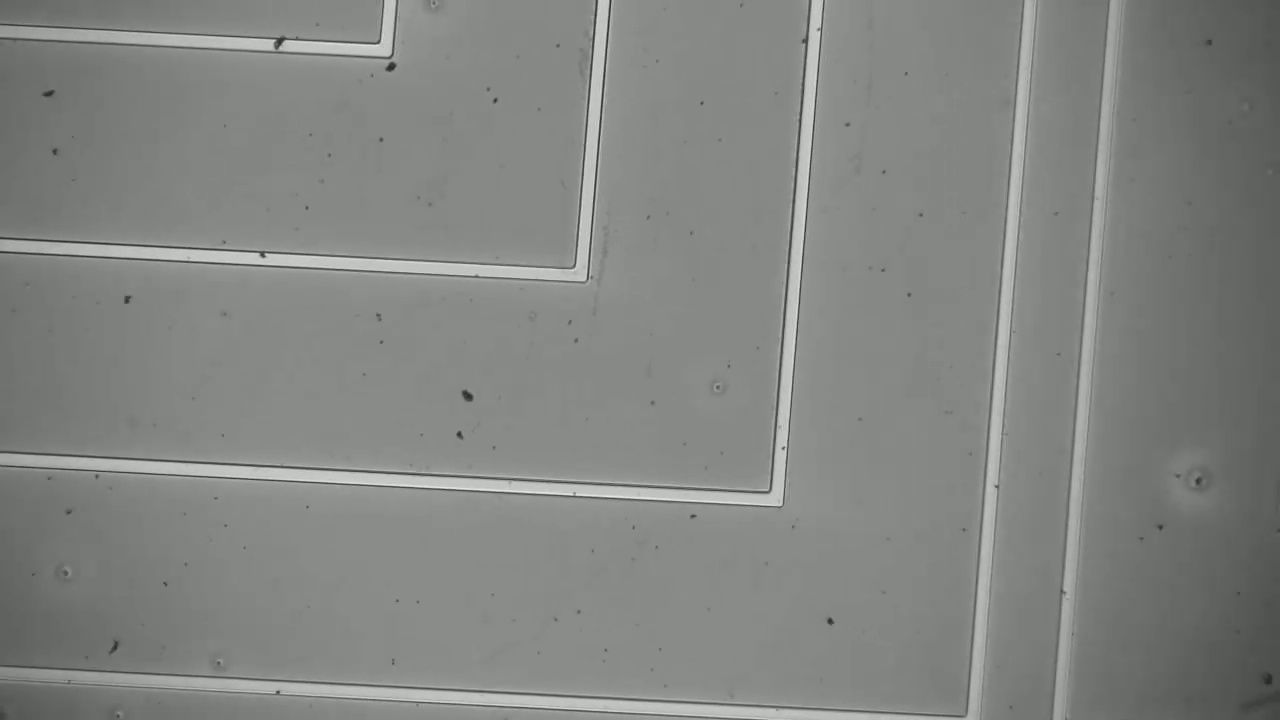stains_enbedded: (266, 28, 292, 62)
